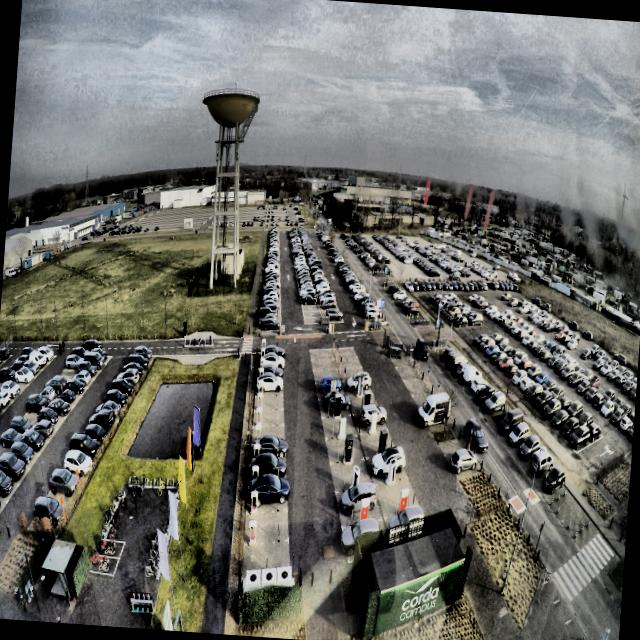cabinet: (245, 566, 292, 586)
car: (248, 473, 291, 508), (251, 451, 288, 481), (252, 434, 289, 458), (256, 373, 284, 393), (260, 352, 285, 368), (258, 363, 284, 378), (261, 345, 285, 359)
parking: (242, 539, 290, 578), (244, 508, 288, 544), (246, 482, 287, 513), (248, 462, 286, 486), (250, 442, 286, 465), (251, 425, 285, 444), (253, 410, 284, 427), (255, 380, 283, 396), (254, 395, 283, 410), (257, 366, 282, 377), (258, 356, 283, 367), (258, 347, 283, 357)
supercharger: (249, 520, 257, 544), (251, 491, 258, 513), (253, 444, 259, 461), (252, 466, 258, 482), (255, 425, 261, 440), (256, 408, 261, 425), (257, 393, 262, 406), (258, 380, 263, 393), (259, 368, 264, 379), (261, 338, 266, 348), (261, 347, 265, 358), (260, 357, 264, 367)
